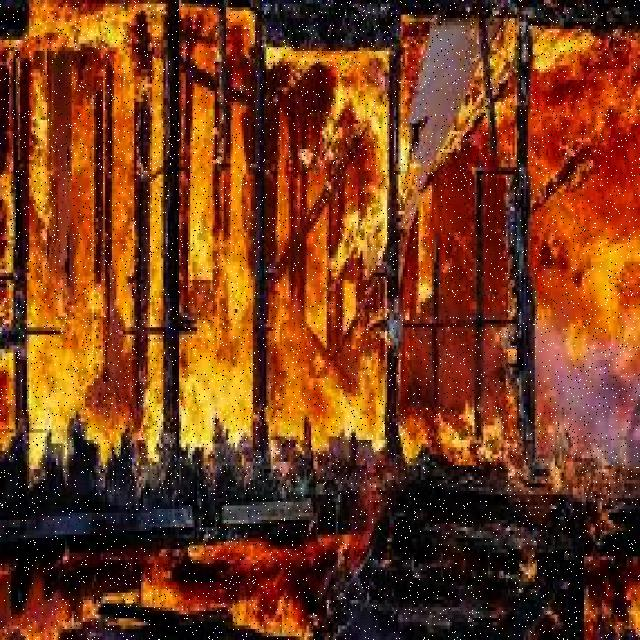fire: (5, 17, 631, 506)
